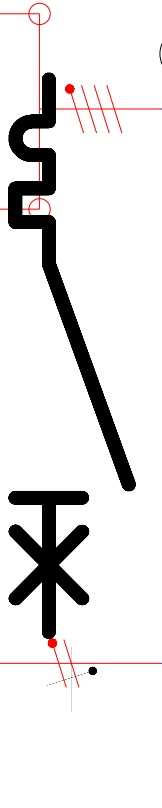interruptor_termomagnetico: (1, 65, 143, 646)
